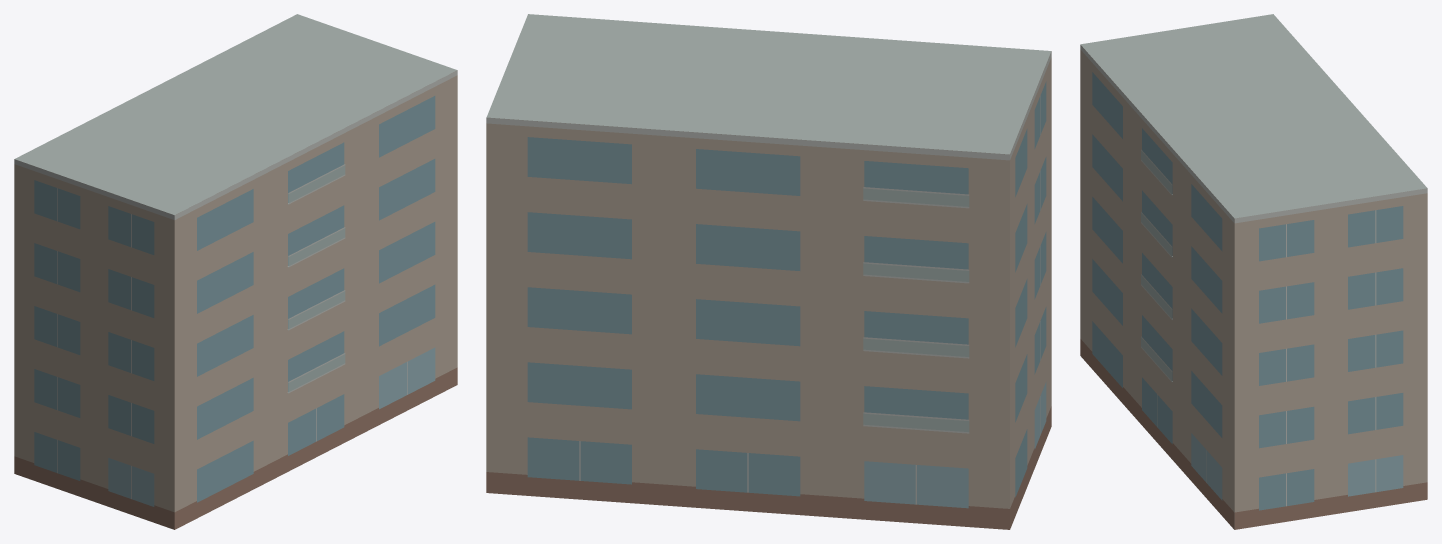
The model's file is survey-upis-32749797.glb.
The picture shows the model from 3 angles, left to right: view 1: azimuth 30°, elevation 25°; view 2: azimuth 150°, elevation 25°; view 3: azimuth 270°, elevation 25°; orthographic projection. The views are drawn at different scales.
Visible parts, largest first — view 1: survey-upis-32749797.tmp; view 2: survey-upis-32749797.tmp; view 3: survey-upis-32749797.tmp.
Part boxes in pixels (x1,y1,x2,y2): survey-upis-32749797.tmp: [14, 14, 457, 529]; survey-upis-32749797.tmp: [486, 14, 1051, 529]; survey-upis-32749797.tmp: [1080, 14, 1427, 529].
Size of the model in its own units: 21.63 by 15.35 by 15.53.
